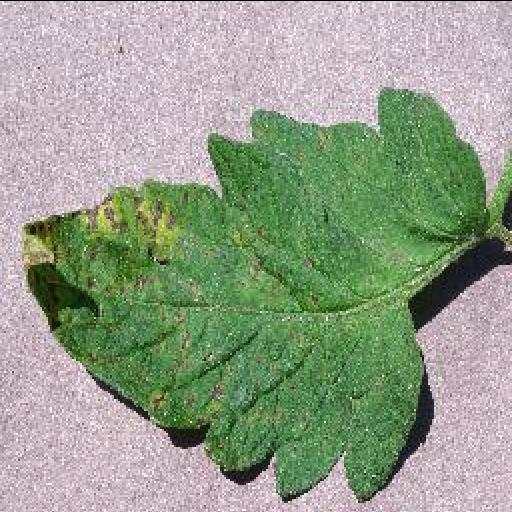disease_tomato: (20, 74, 492, 500)
